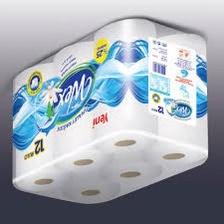tissue: (6, 11, 215, 210)
